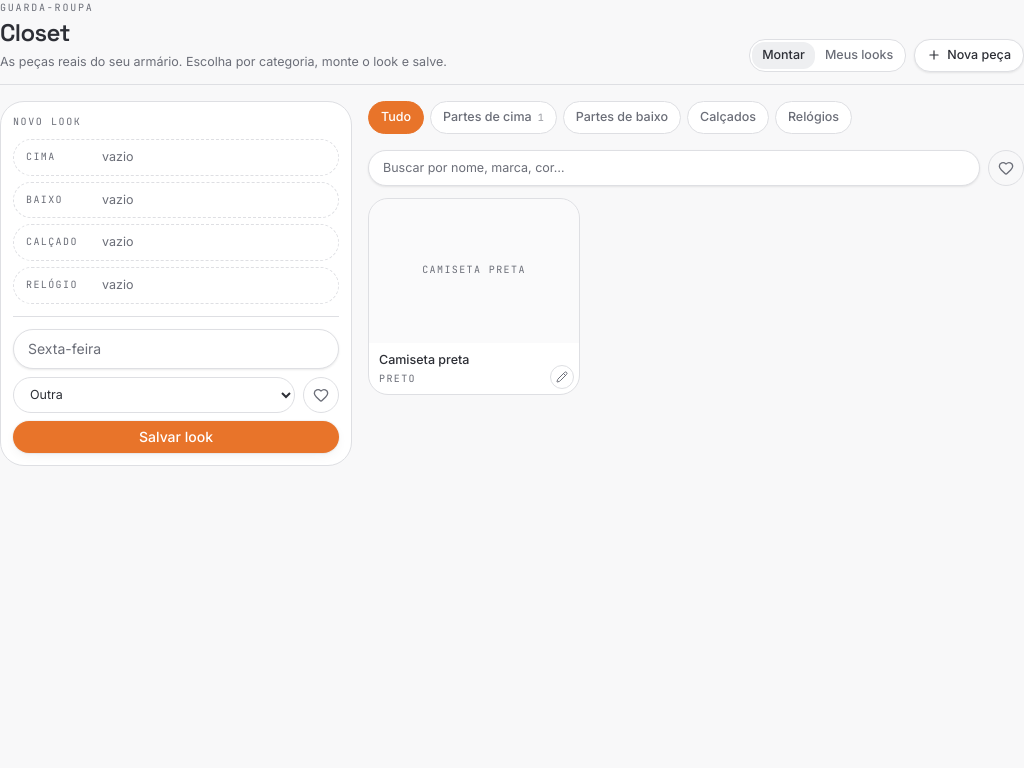
Test case: building a look › opening a piece's details does not swap it into the look
The width and height of the screenshot is (1024, 768).
Expected: the button "Camiseta preta Camiseta preta preto" is shown, [368, 198, 580, 395]
Click the button named "Editar Camiseta preta". click: click(562, 377)
box: [550, 365, 574, 389]
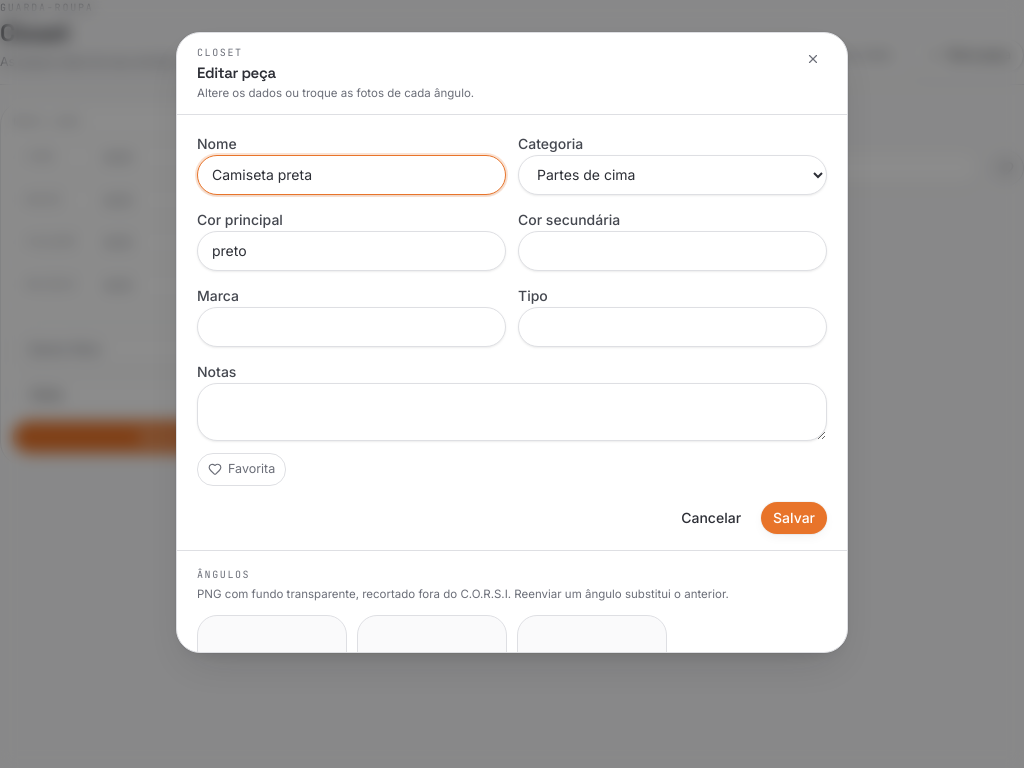
Now the dialog is shown, box [176, 32, 848, 653]
